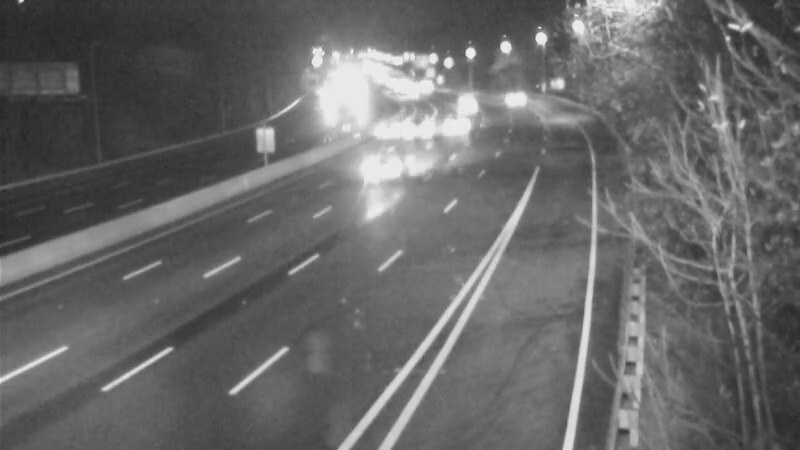vehicle: (350, 135, 430, 215), (385, 69, 435, 119), (437, 78, 487, 128), (488, 78, 538, 128), (432, 96, 482, 146), (392, 105, 442, 155), (358, 108, 408, 158)
